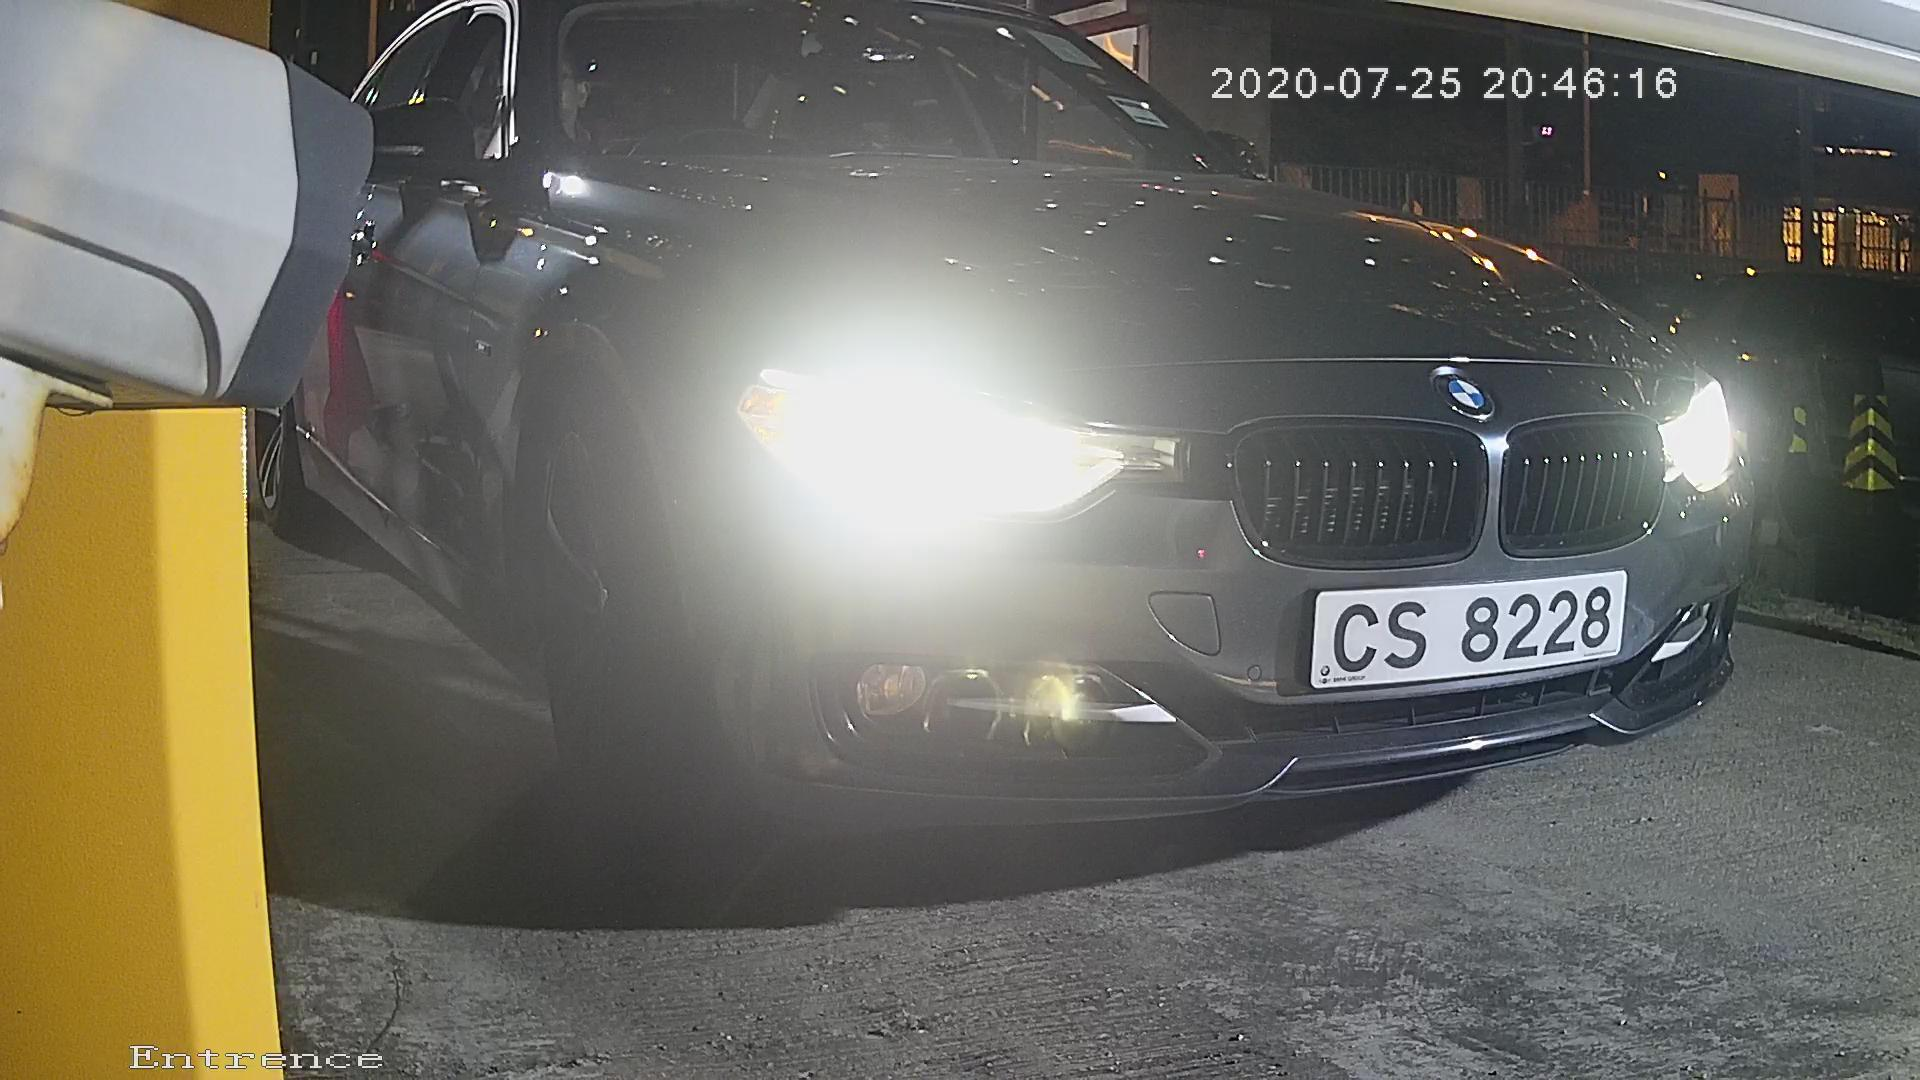privatecar: (481, 15, 1801, 873)
